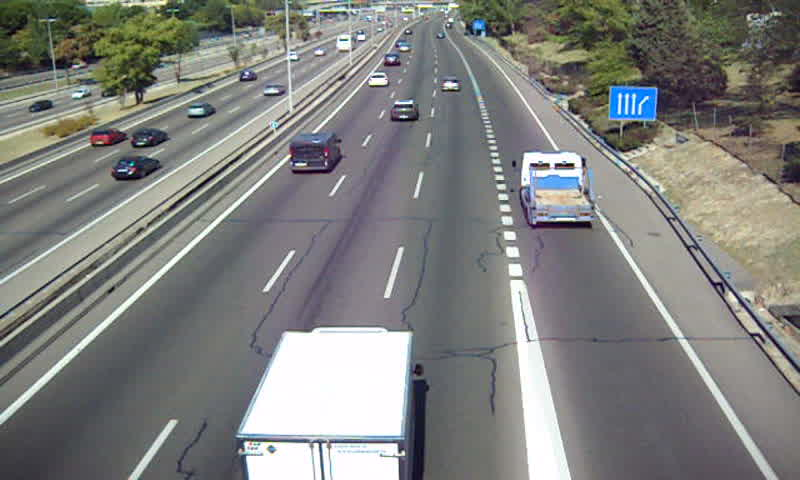car: (390, 99, 418, 123), (366, 72, 388, 88), (441, 78, 462, 94), (383, 52, 402, 67)
small-truck: (236, 325, 415, 480)
truck: (520, 150, 596, 223)
van: (289, 133, 341, 172)
